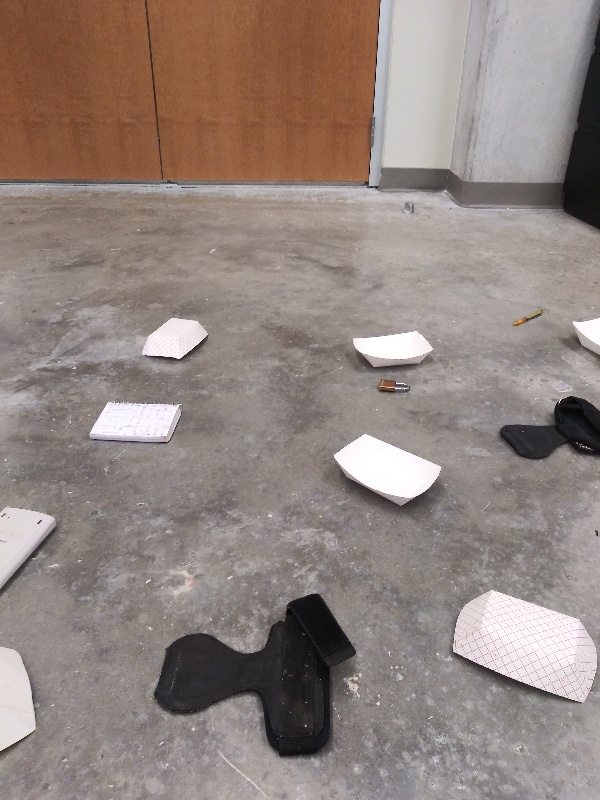plate: (444, 585, 600, 710), (328, 432, 448, 511), (1, 641, 42, 761), (348, 325, 437, 373), (139, 314, 213, 365), (571, 311, 600, 365)
